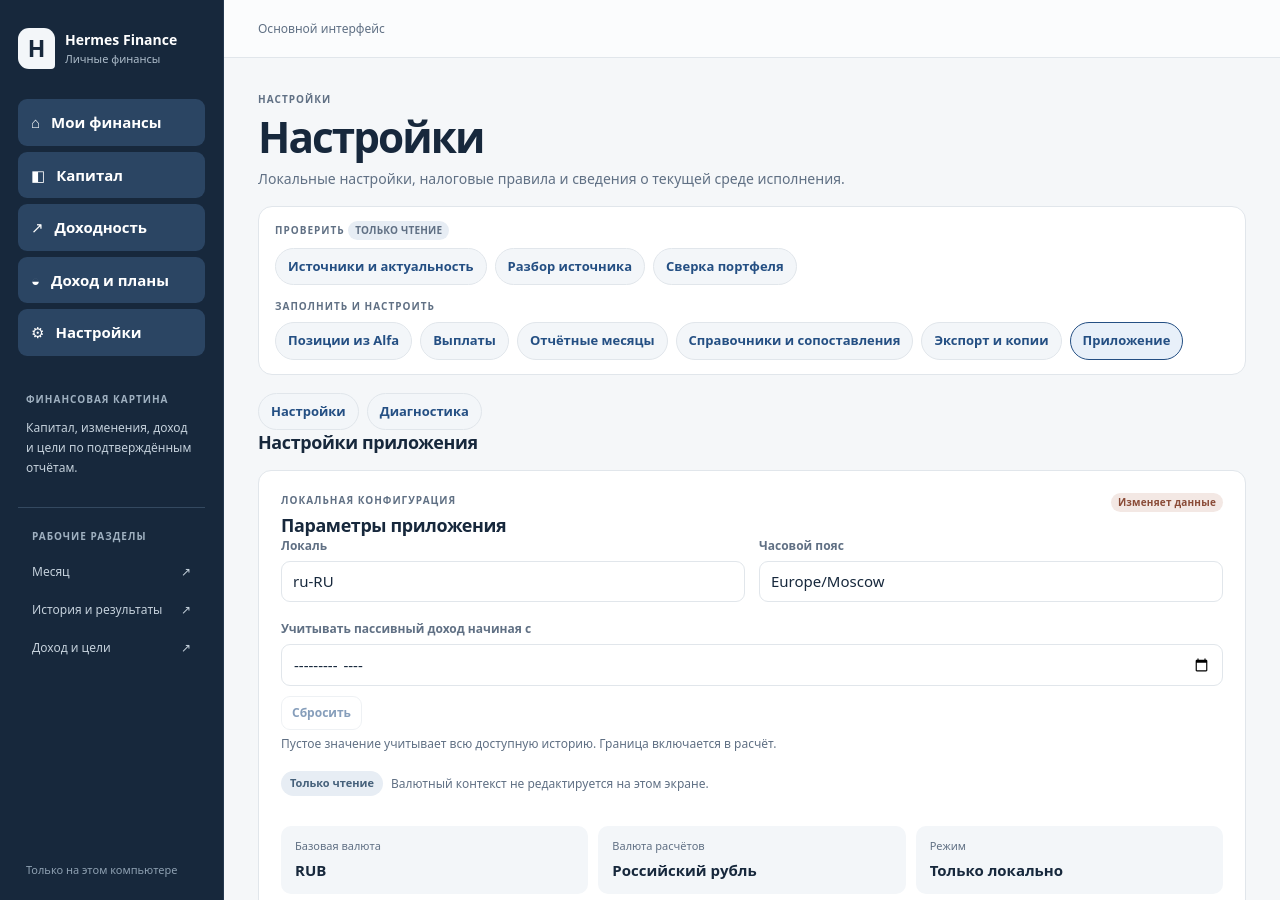
Test case: UI v2 Data/App › shows locked tax years as read-only and preserves runtime retry
The width and height of the screenshot is (1280, 900).
Click the link "Диагностика".
click(424, 411)  # box [367, 393, 482, 430]
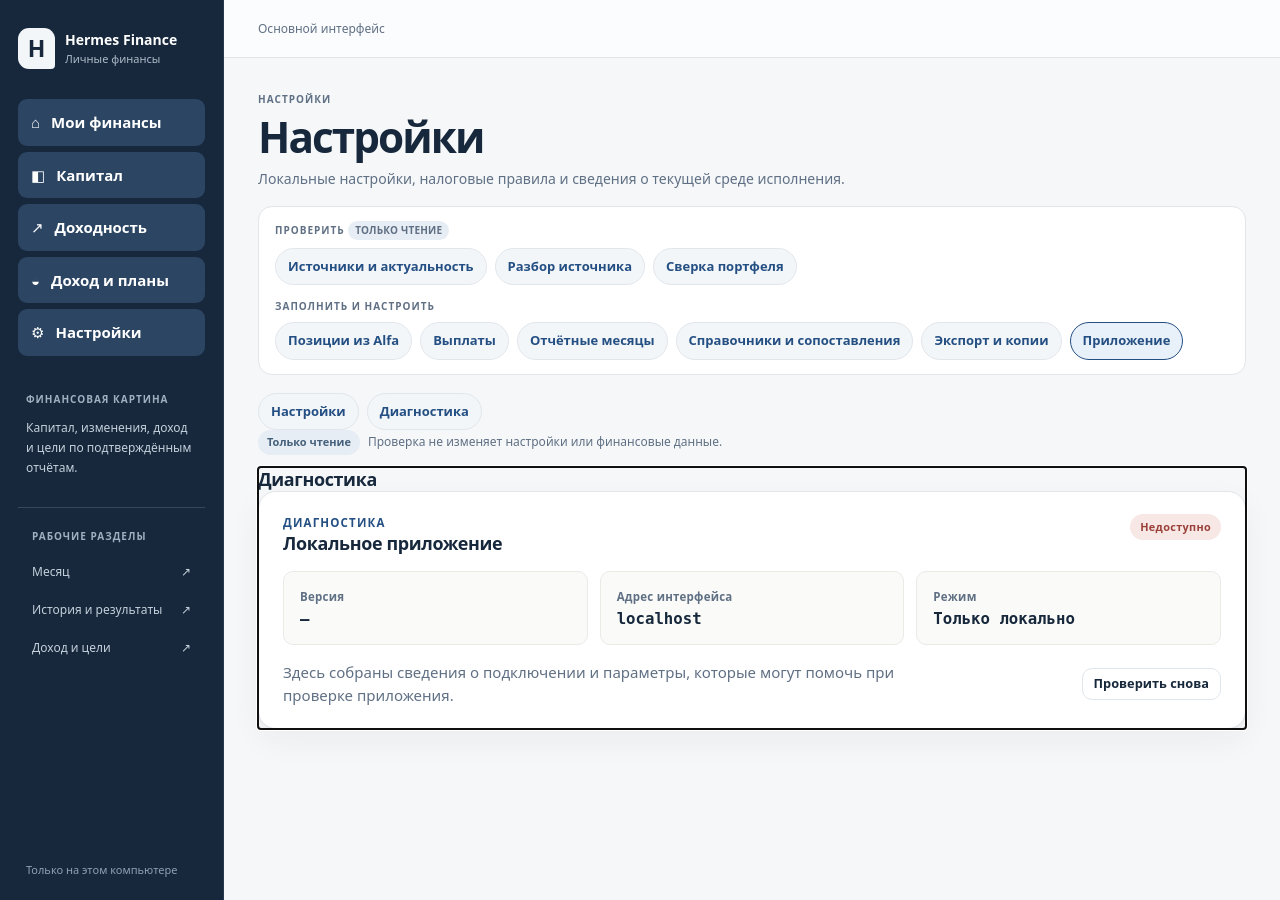
Click the button "Проверить снова".
click(1151, 684)  # box [1082, 668, 1221, 700]
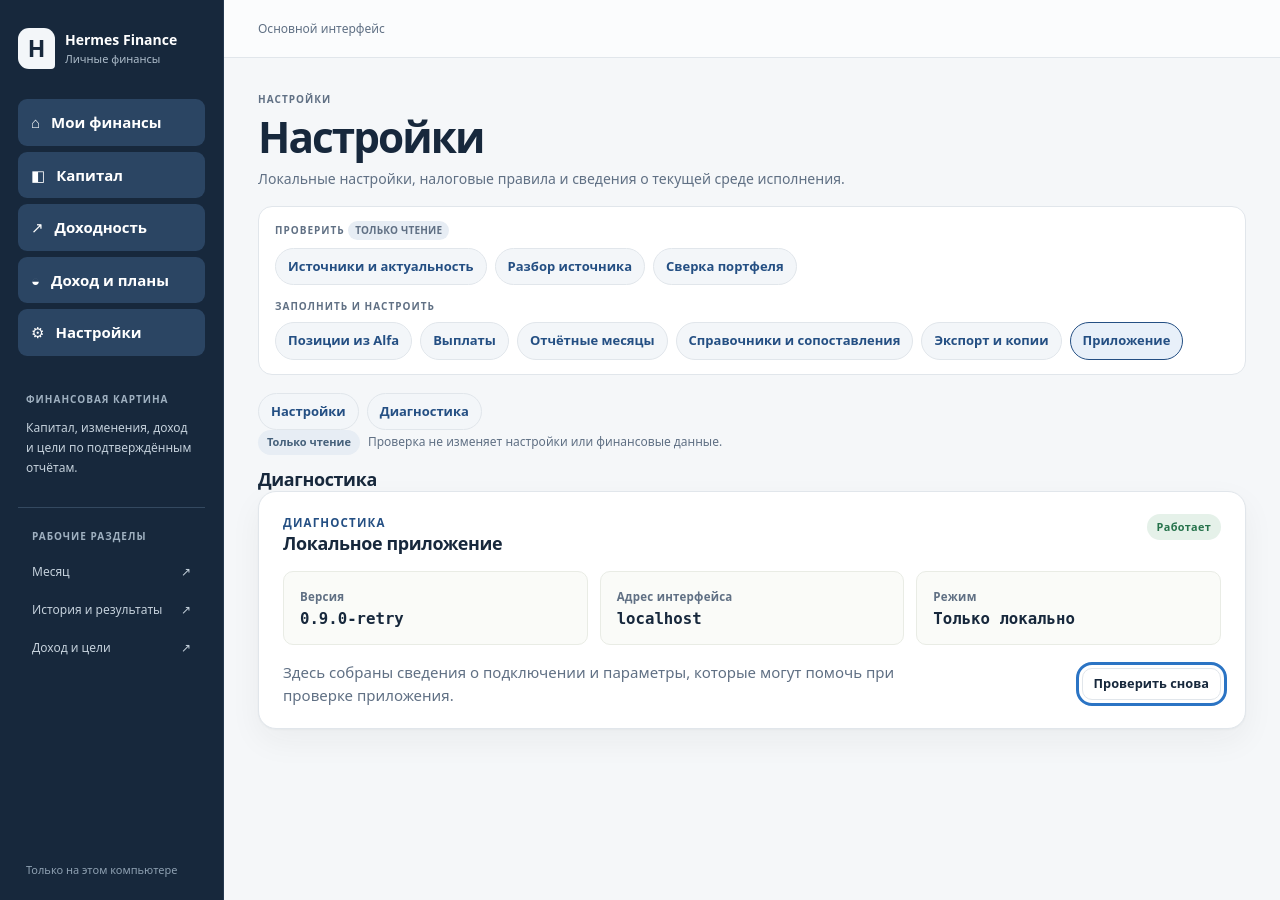
Now the text "0.9.0-retry" is shown, box [300, 608, 404, 628]
